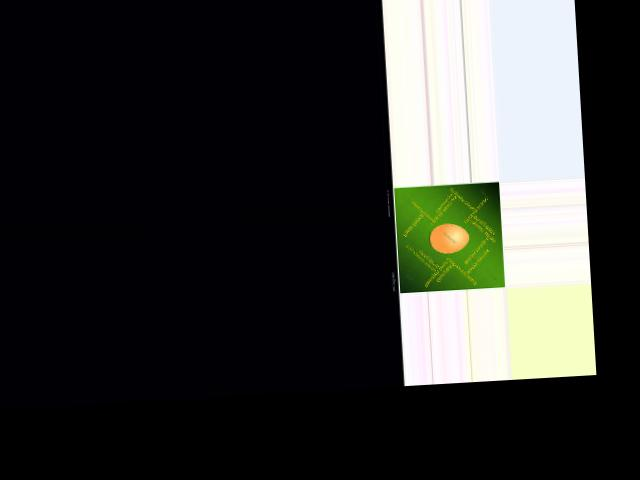egg: (429, 222, 469, 253)
